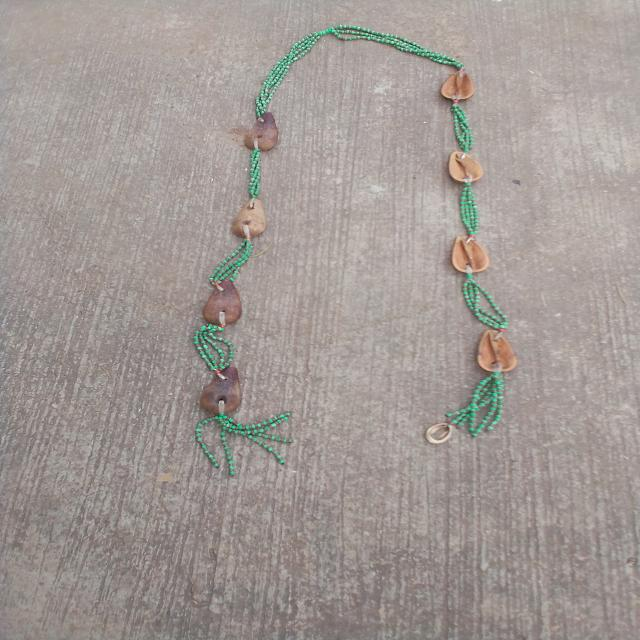facedown: (192, 361, 248, 422), (199, 272, 249, 332), (228, 192, 272, 245), (240, 105, 283, 157)
faceup: (469, 324, 519, 376), (446, 231, 492, 276), (443, 144, 487, 187), (440, 62, 478, 108)
